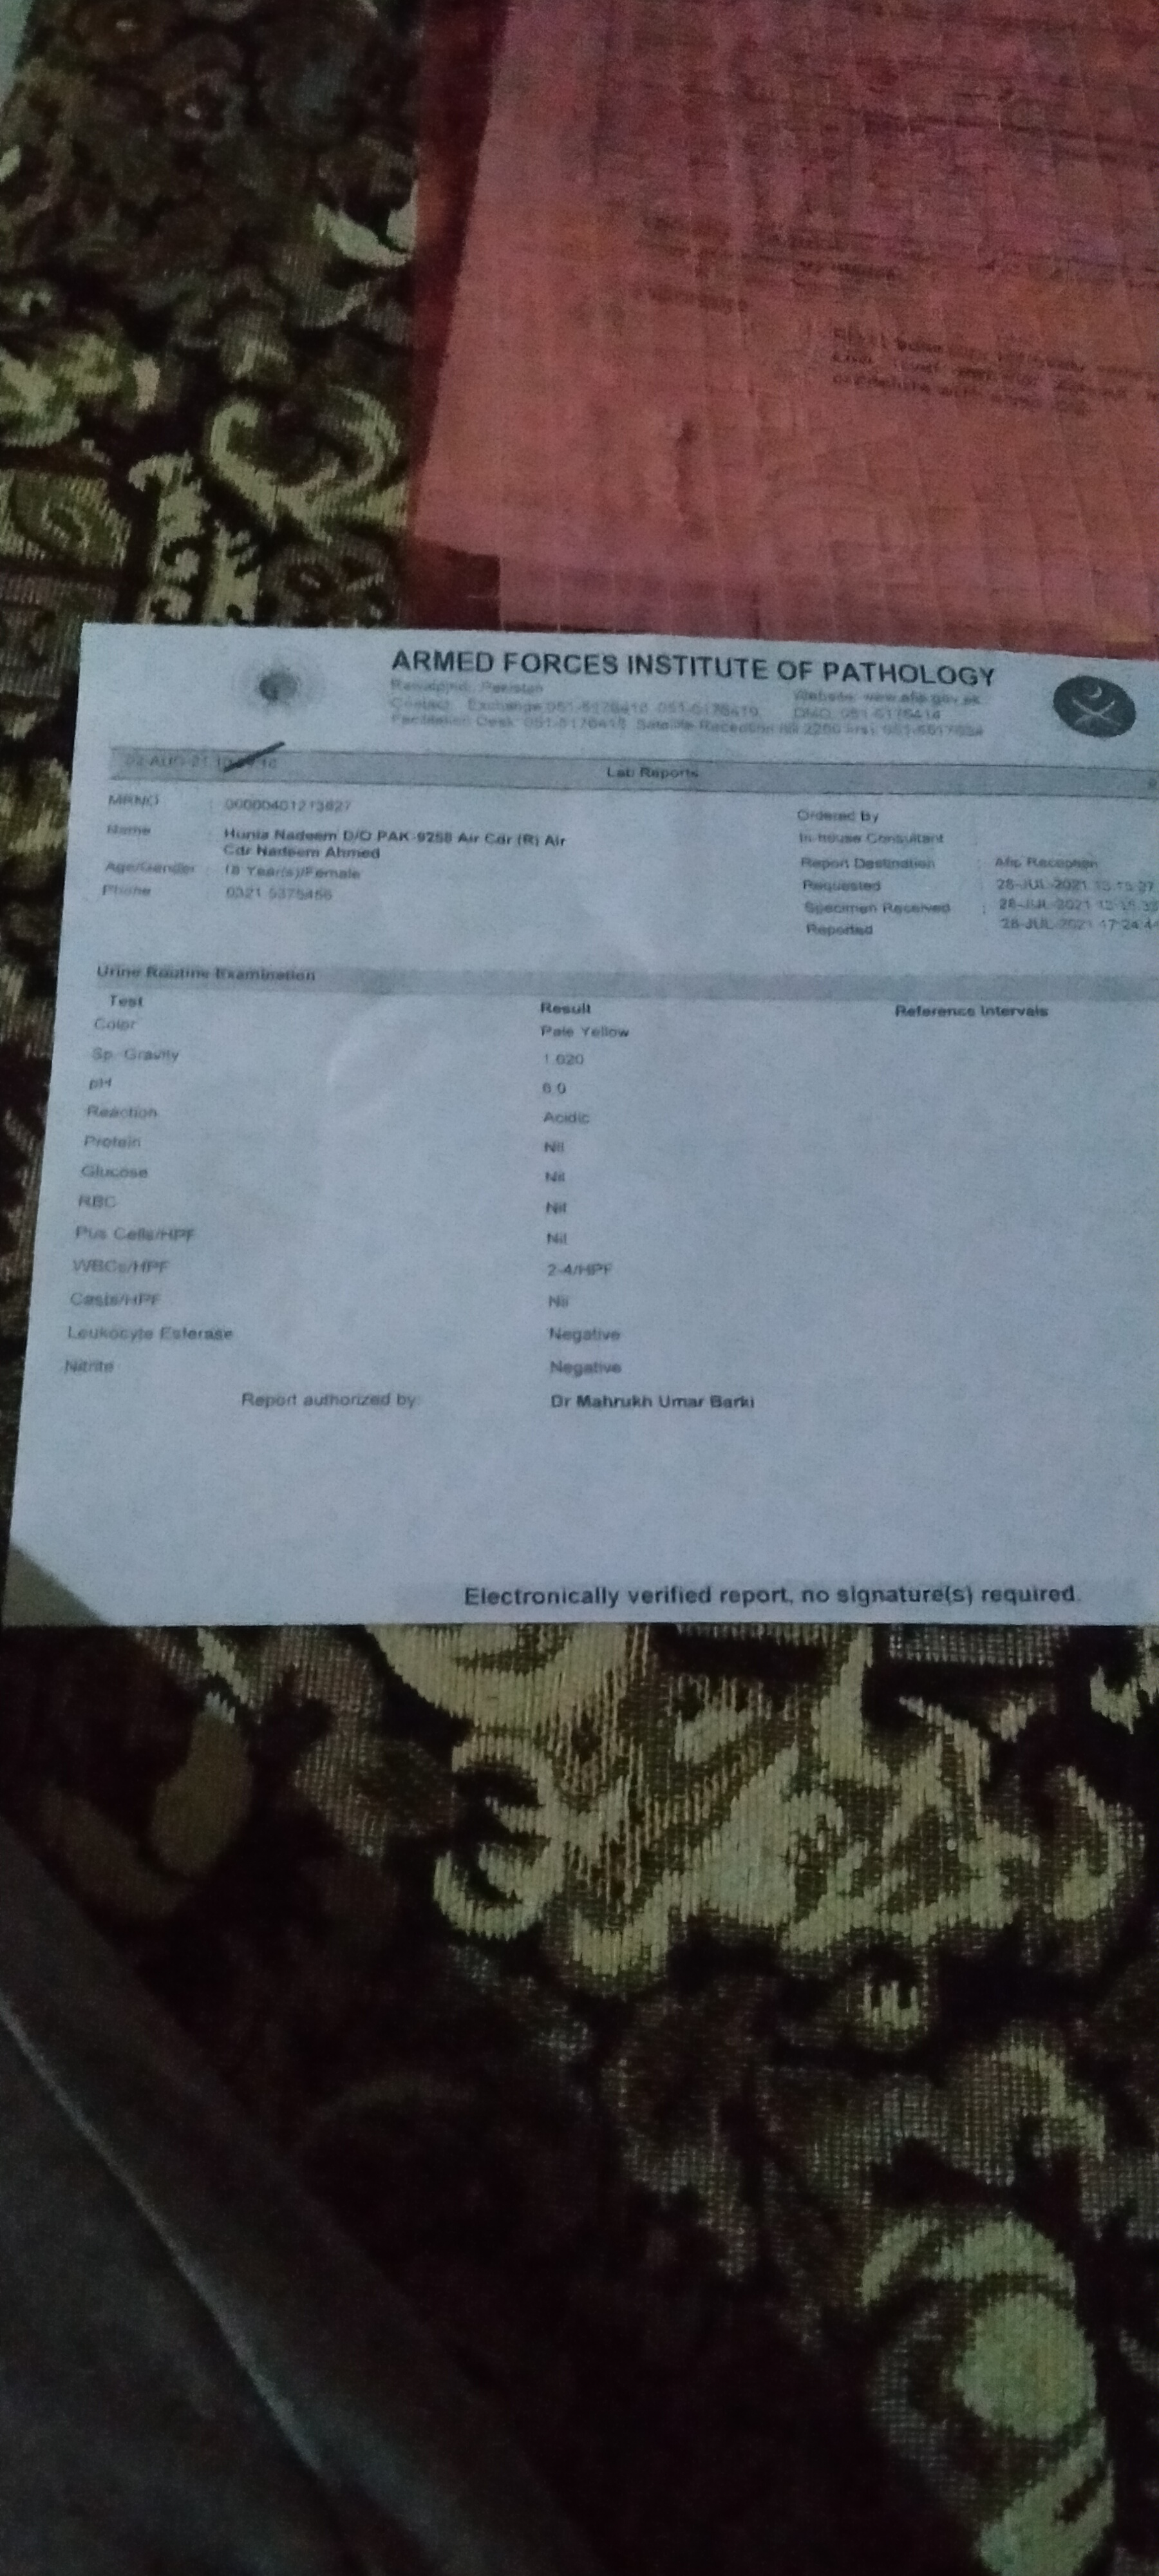report: (59, 945, 1146, 1460)
